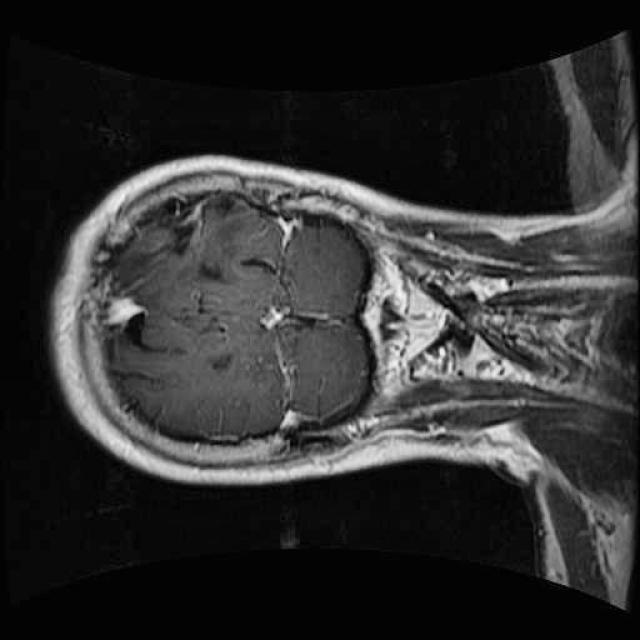Non-Tumor: (85, 171, 282, 325)
